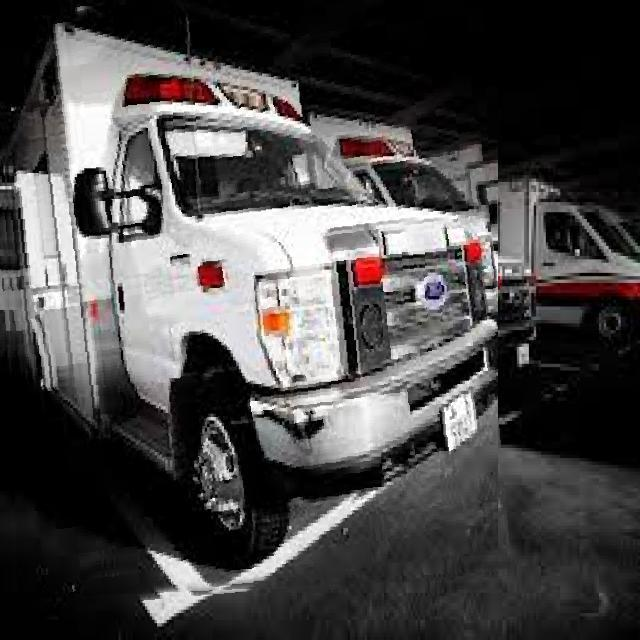ambulance: (0, 0, 498, 599)
